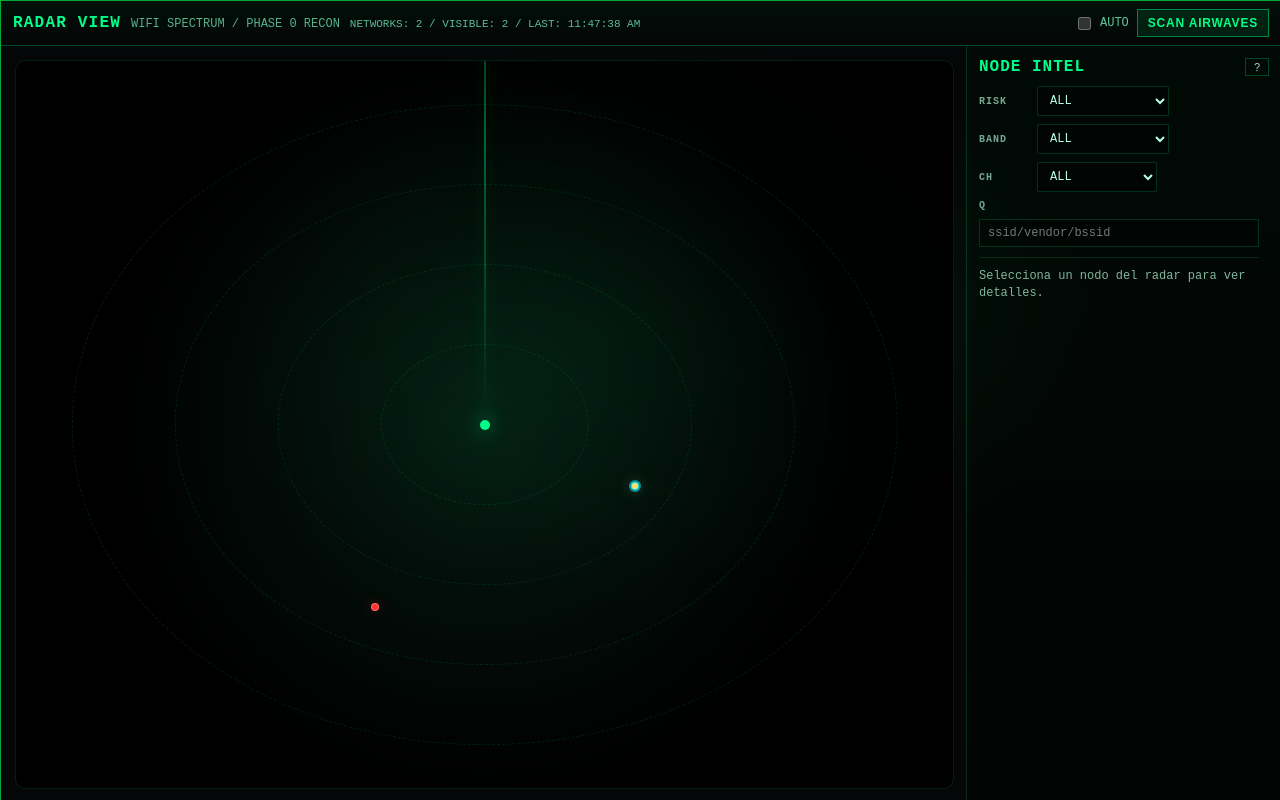
RadarPanel › debe mostrar contador VISIBLE y filtrar por riesgo
Expected: the text "NETWORKS: 2 / VISIBLE: 2 / LAST: 11:47:38 AM" is shown, x1=350 y1=18 x2=640 y2=30
Select "OPEN" in the dropdown named "FILTER_RISK_SELECT" at (1103, 101), box x1=1037 y1=86 x2=1169 y2=116
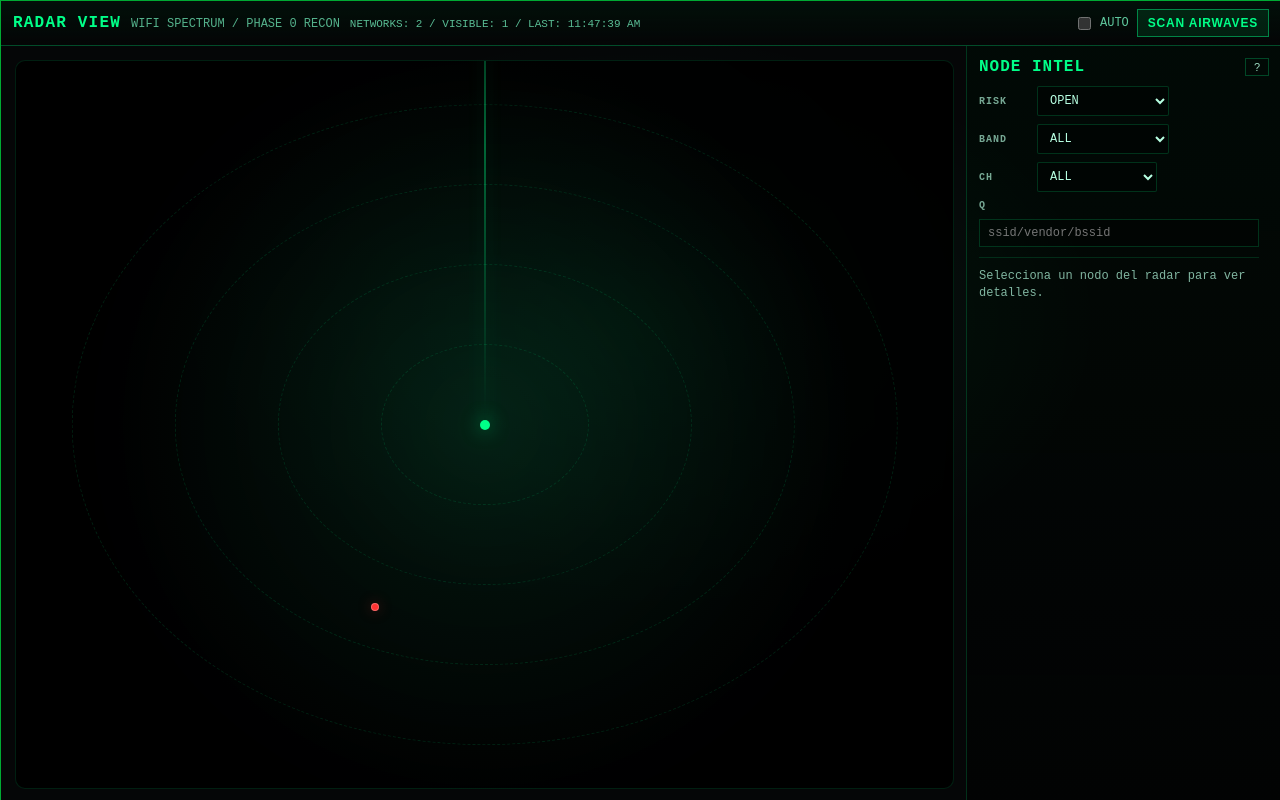
Expected: the text "NETWORKS: 2 / VISIBLE: 1 / LAST: 11:47:39 AM" is shown, x1=350 y1=18 x2=640 y2=30
